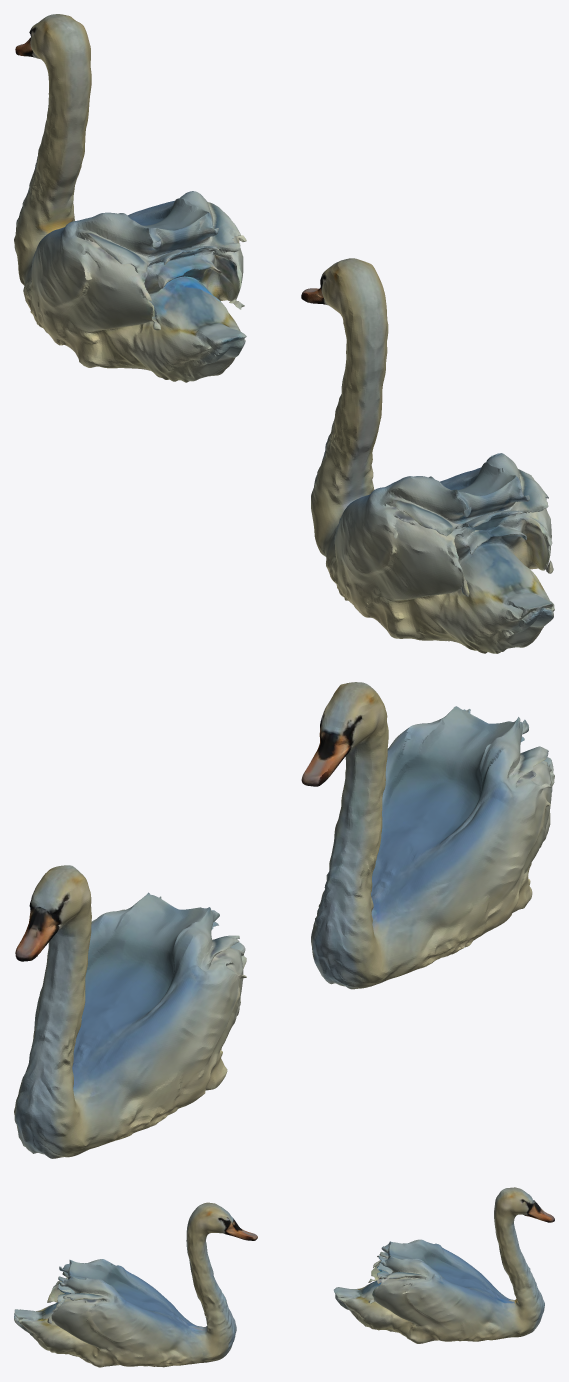
Rendered from white+swan+3d+model.glb.
3 renders of one model, top to bottom at view 1: azimuth 30°, elevation 25°; view 2: azimuth 150°, elevation 25°; view 3: azimuth 270°, elevation 25°, orthographic. The views are drawn at different scales.
Parts seen in each view (by area): view 1: tripo_node_dec0caa7-8215-4edc-bf54-ded50d944f9d; view 2: tripo_node_dec0caa7-8215-4edc-bf54-ded50d944f9d; view 3: tripo_node_dec0caa7-8215-4edc-bf54-ded50d944f9d.
Boxes of the visible parts, bbox=[...] form: tripo_node_dec0caa7-8215-4edc-bf54-ded50d944f9d: bbox=[14, 14, 554, 653]; tripo_node_dec0caa7-8215-4edc-bf54-ded50d944f9d: bbox=[14, 682, 554, 1158]; tripo_node_dec0caa7-8215-4edc-bf54-ded50d944f9d: bbox=[14, 1187, 554, 1367].
Size of the model in its own units: 0.1837 by 0.3423 by 1.
